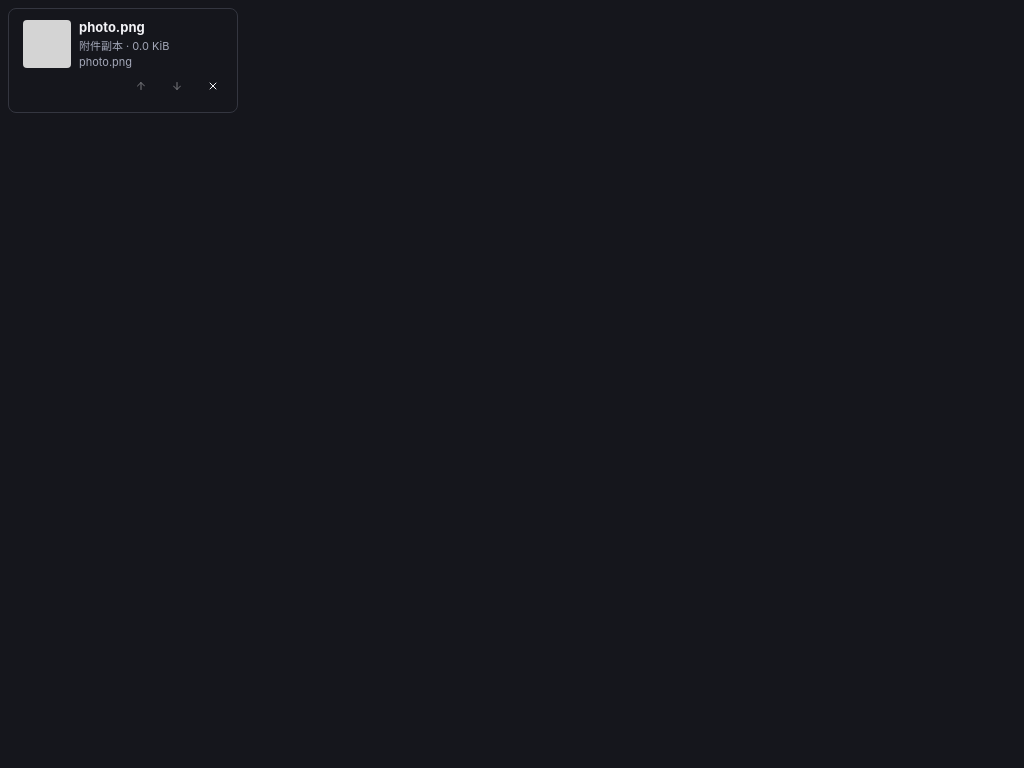
does not preview changed copy bytes under the old hash
Click the button "photo.png 附件副本 · 0.0 KiB photo.png": (123, 44) [17,17,229,72]
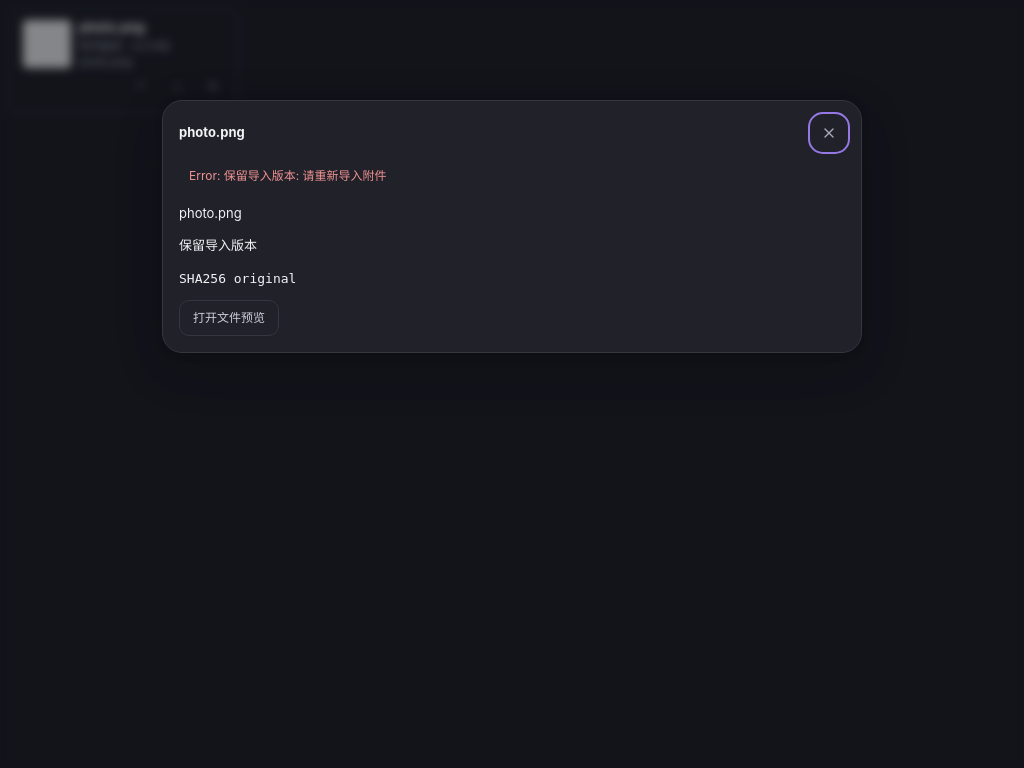
Now the message shows "请重新导入附件", box [189,168,387,183]
Press Escape in the button named "关闭", box [813,117,845,149]
Now the dialog is shown, box [162,100,862,353]
Press Escape
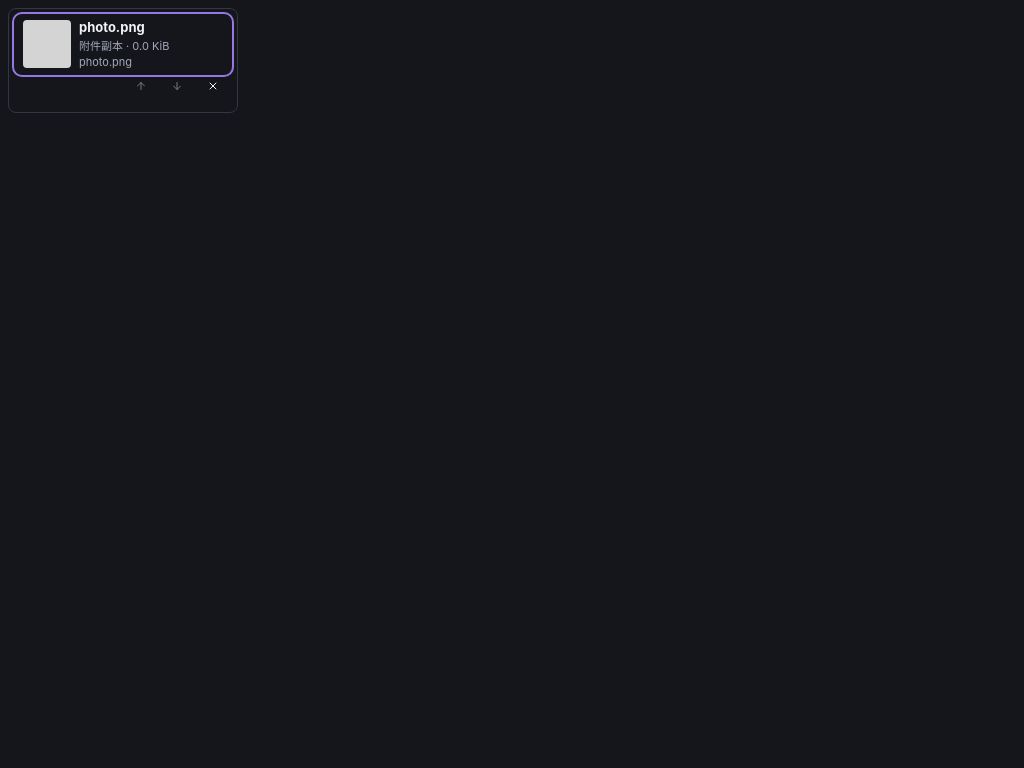
Now the dialog is gone
